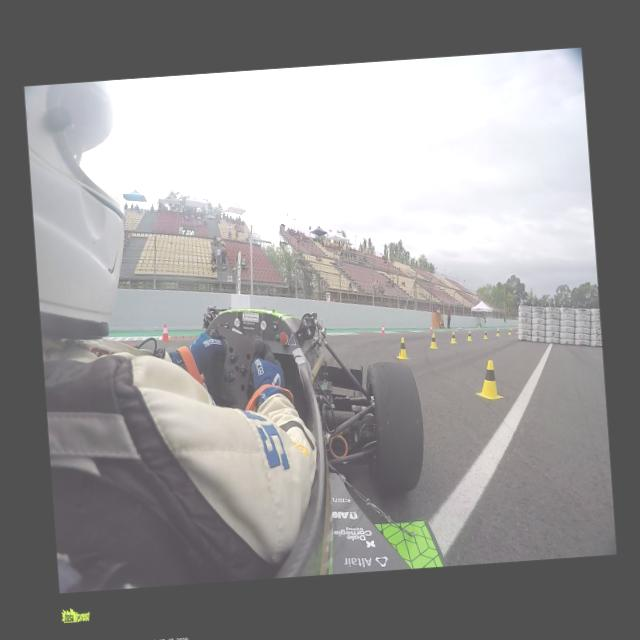orange_cone: (158, 322, 170, 342), (379, 324, 385, 336), (428, 325, 433, 333), (457, 324, 461, 332)
yellow_cone: (473, 358, 501, 402), (393, 337, 410, 360), (427, 331, 438, 350), (448, 330, 457, 344), (482, 329, 488, 340), (466, 330, 472, 340), (494, 328, 500, 337), (506, 328, 511, 336), (516, 328, 518, 334)
